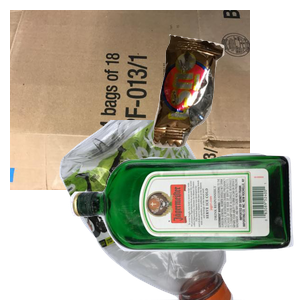cardboard: (10, 10, 250, 190)
glass: (67, 150, 300, 300)
plastic: (57, 120, 293, 300)
trash: (150, 32, 300, 172)
